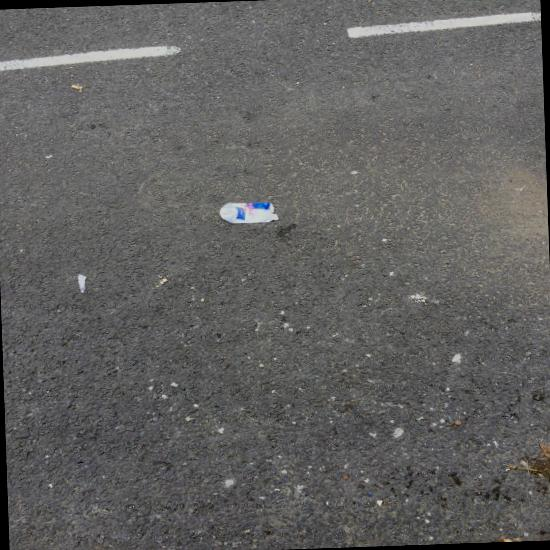Drink can: (219, 203, 279, 224)
Unlabeled litter: (78, 275, 87, 293)
